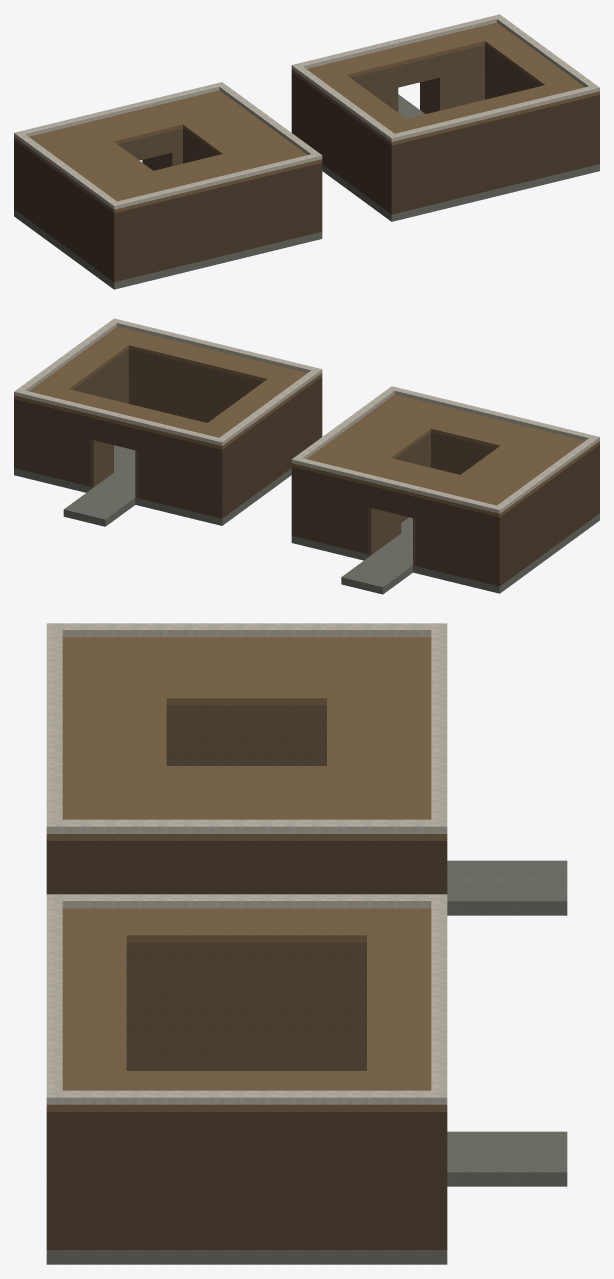
3 views of the same model, one above another, from view 1: azimuth 30°, elevation 25°; view 2: azimuth 150°, elevation 25°; view 3: azimuth 270°, elevation 25° (orthographic). The views are drawn at different scales.
Parts seen in each view (by area): view 1: 既有建筑基底与地下开挖地形组件 (×2); view 2: 既有建筑基底与地下开挖地形组件 (×2), 与坑底同高的作者入口岩面; view 3: 既有建筑基底与地下开挖地形组件 (×2), 与坑底同高的作者入口岩面.
Part boxes in pixels (x1,y1,x2,y2): 既有建筑基底与地下开挖地形组件 (×2): (14, 14, 599, 289); 既有建筑基底与地下开挖地形组件 (×2): (14, 318, 599, 593); 与坑底同高的作者入口岩面: (63, 487, 412, 594); 既有建筑基底与地下开挖地形组件 (×2): (46, 623, 447, 1264); 与坑底同高的作者入口岩面: (447, 860, 567, 1186).
Size of the model in its own units: 28 by 4.6 by 13.
Materials: 5 (5 with a texture image).
